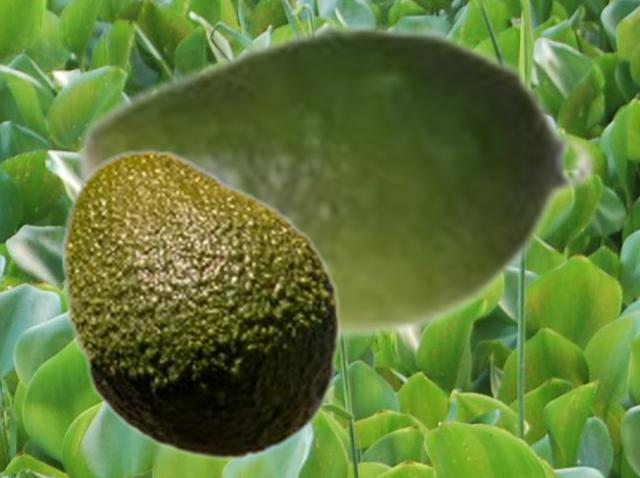avocado: (70, 15, 599, 343), (60, 148, 341, 461)
